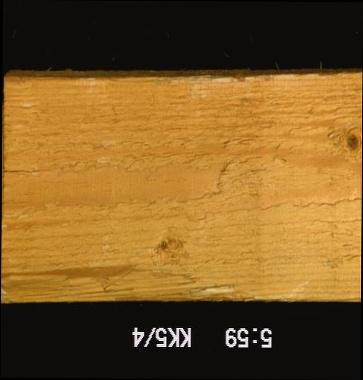small_knot: (145, 232, 190, 268)
sound_knot: (324, 117, 361, 161)
split: (1, 160, 55, 178)
wave: (0, 262, 250, 303)
